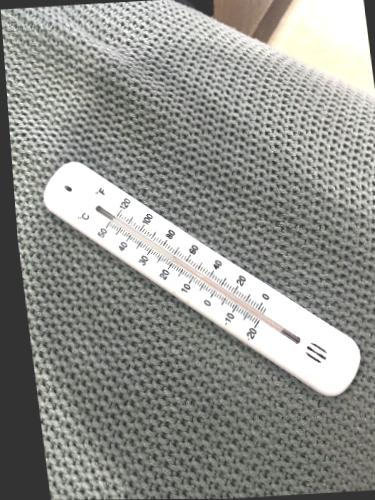thermo: (38, 158, 362, 398)
